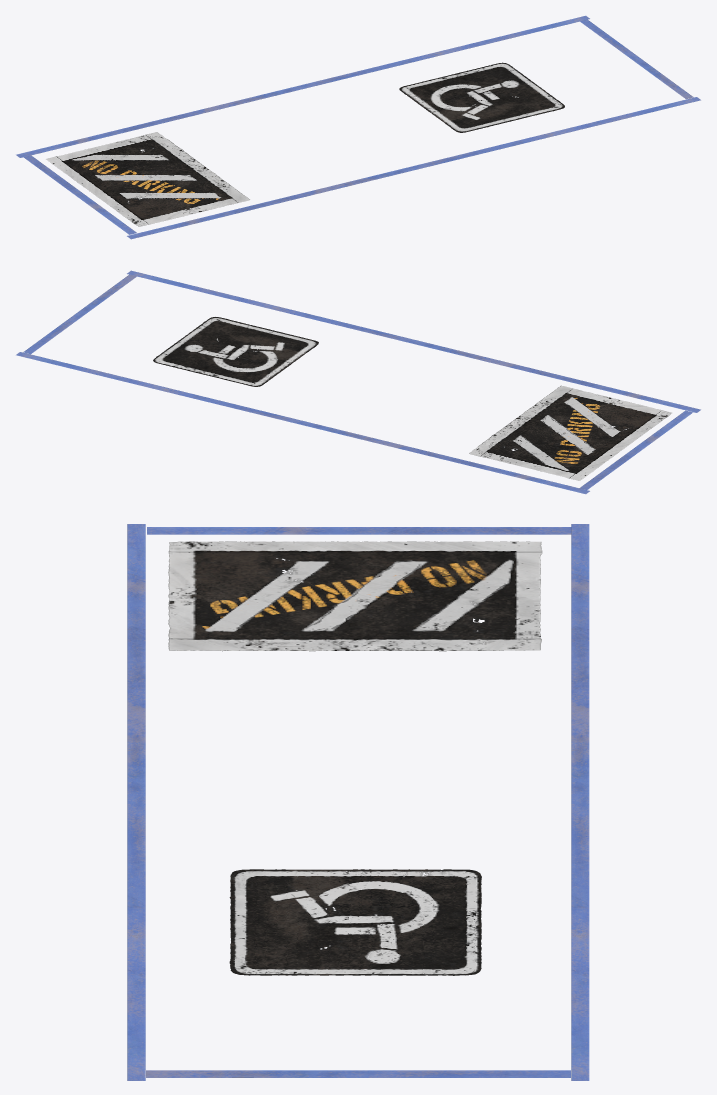
Rendered from MB_Parking_Disabled.fbx.
3 views of the same model, one above another, from view 1: azimuth 30°, elevation 25°; view 2: azimuth 150°, elevation 25°; view 3: azimuth 270°, elevation 25° (orthographic). The views are drawn at different scales.
Parts seen in each view (by area): view 1: MB_Parking_Disabled; view 2: MB_Parking_Disabled; view 3: MB_Parking_Disabled.
Part boxes in pixels (x1,y1,x2,y2): MB_Parking_Disabled: (16,15,700,239); MB_Parking_Disabled: (16,270,700,494); MB_Parking_Disabled: (127,524,589,1080).
Size of the model in its own units: 608 by 0.1 by 219.
